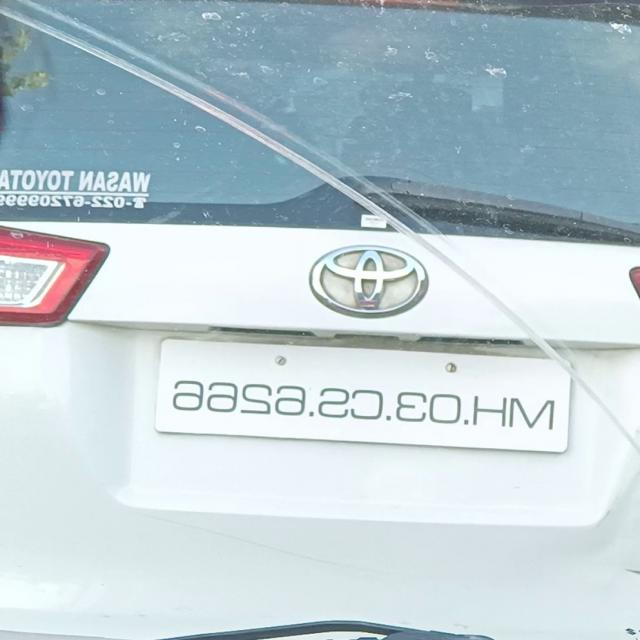license_plate: (150, 336, 576, 465)
